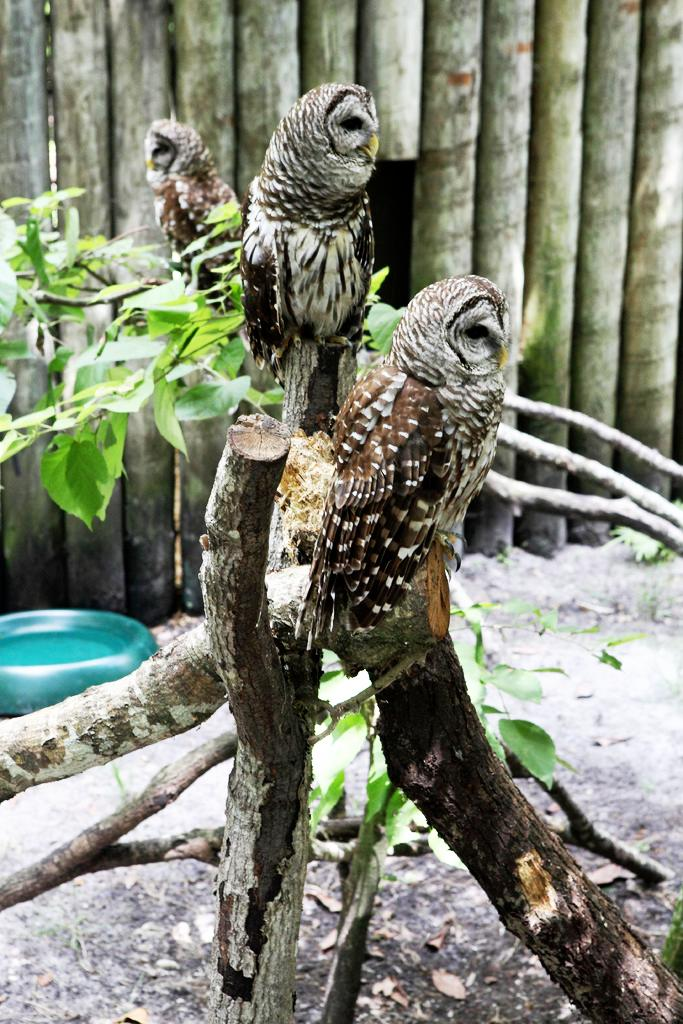Owl: (291, 268, 504, 662), (236, 82, 374, 379), (140, 115, 240, 299)
